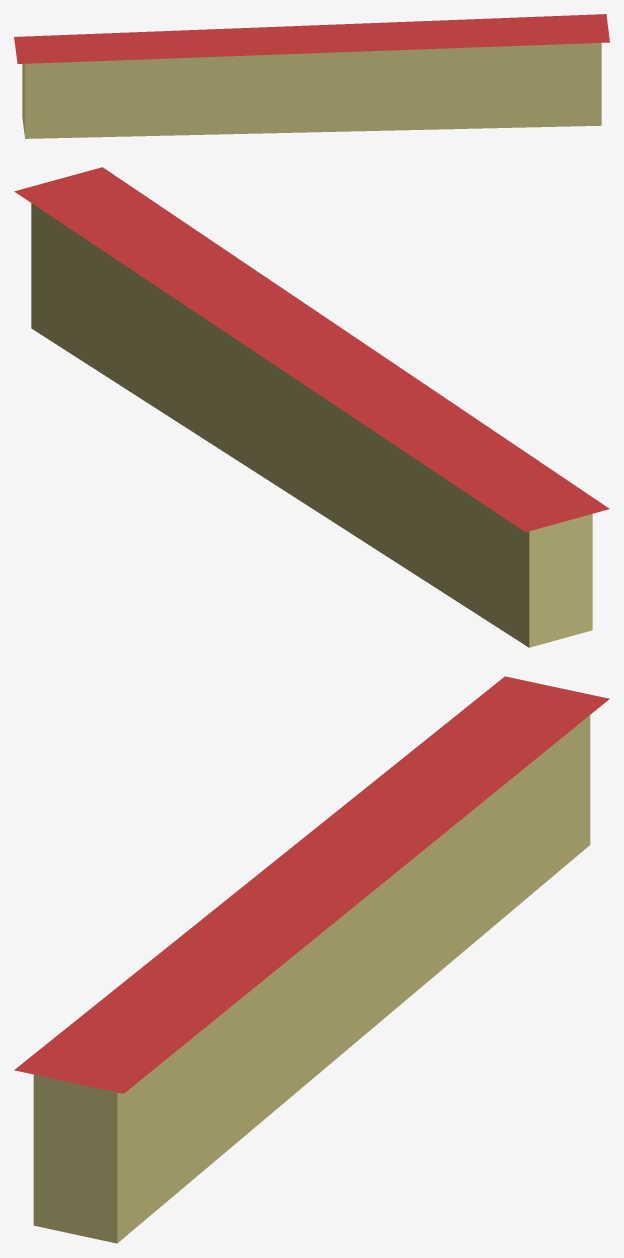
3 renders of one model, top to bottom at view 1: azimuth 30°, elevation 25°; view 2: azimuth 150°, elevation 25°; view 3: azimuth 270°, elevation 25°, orthographic. The views are drawn at different scales.
Size of the model in its own units: 34.98 by 20.38 by 5.96.
